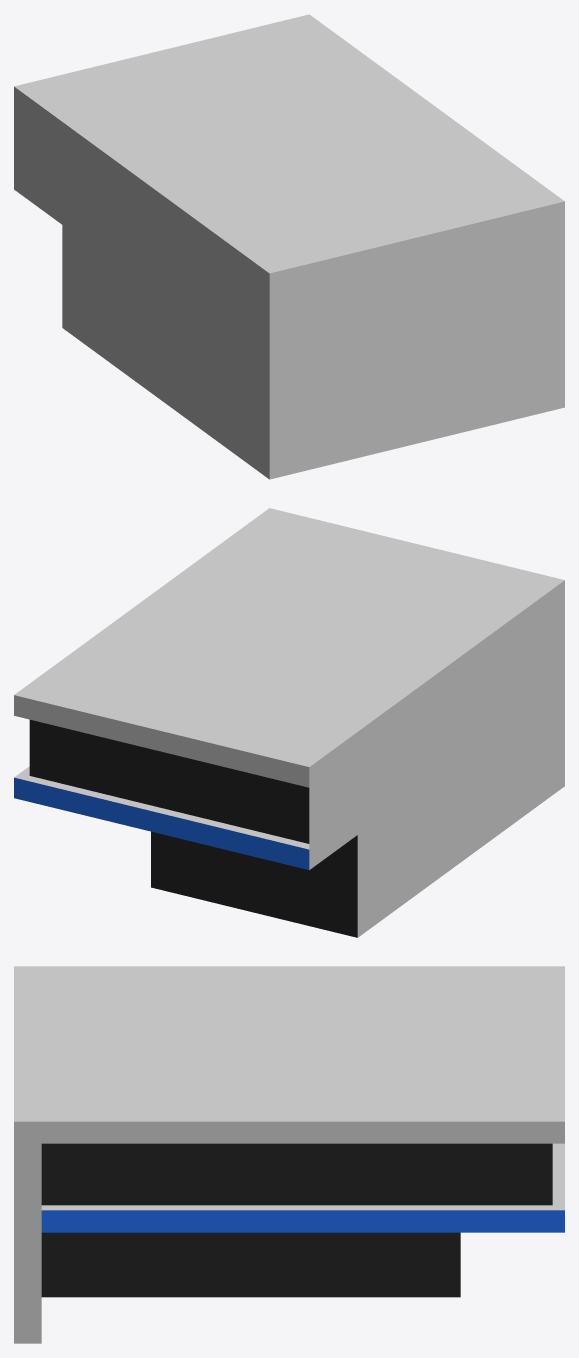
Rendered from Edificio-1.fbx.
3 renders of one model, top to bottom at view 1: azimuth 30°, elevation 25°; view 2: azimuth 150°, elevation 25°; view 3: azimuth 270°, elevation 25°, orthographic. The views are drawn at different scales.
Visible parts, largest first — view 1: Plane; view 2: Plane; view 3: Plane.
Boxes of the visible parts, left/top/right/bottom form: Plane: left=14, top=14, right=564, bottom=479; Plane: left=14, top=508, right=564, bottom=937; Plane: left=14, top=966, right=564, bottom=1343.
Bounding box in the file's own units: 600 × 400 × 899.
